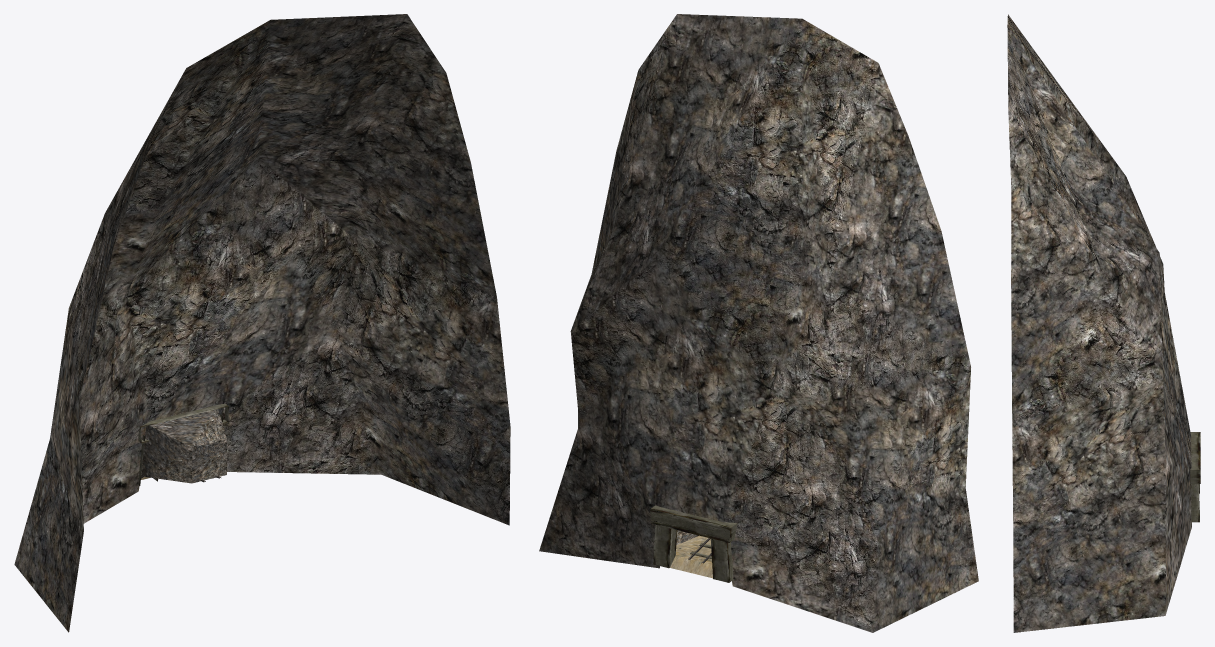
File: pir_m_prp_mng_doorfacade_narrow.fbx
3 renders of one model, left to right at view 1: azimuth 30°, elevation 25°; view 2: azimuth 150°, elevation 25°; view 3: azimuth 270°, elevation 25°, orthographic. The views are drawn at different scales.
Visible parts, largest first — view 1: rockwall, interior_hallway; view 2: rockwall, cave_mine_supports:minesupport_1, interior_hallway, cave_mine_supports:minesupport_4, cave_mine_supports:minesupport_3; view 3: rockwall, cave_mine_supports:minesupport_1, cave_mine_supports:minesupport_4.
Part boxes in pixels (box(x1,y1,x2,y2)): rockwall: box(14, 14, 510, 632); interior_hallway: box(141, 409, 226, 483); rockwall: box(539, 14, 978, 632); cave_mine_supports:minesupport_1: box(650, 505, 737, 542); interior_hallway: box(670, 530, 712, 578); cave_mine_supports:minesupport_4: box(653, 525, 677, 568); cave_mine_supports:minesupport_3: box(710, 538, 733, 582); rockwall: box(1007, 14, 1191, 632); cave_mine_supports:minesupport_1: box(1190, 432, 1200, 483); cave_mine_supports:minesupport_4: box(1191, 484, 1199, 522).
Size of the model in its own units: 6679 by 8237 by 2858.
3 materials, 3 textured.
